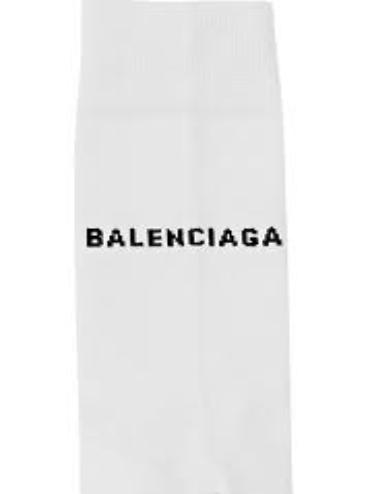BALENCIAGA: (78, 221, 283, 249)
